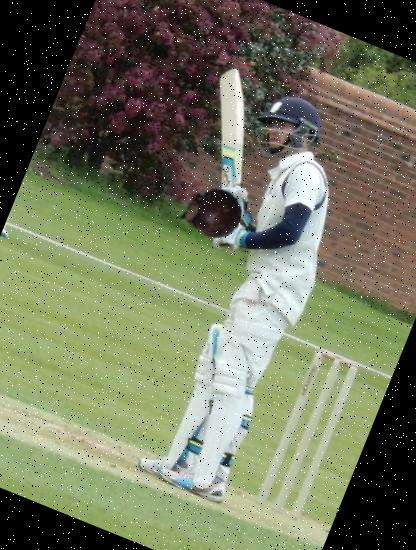Mangostan: (169, 172, 251, 253)
